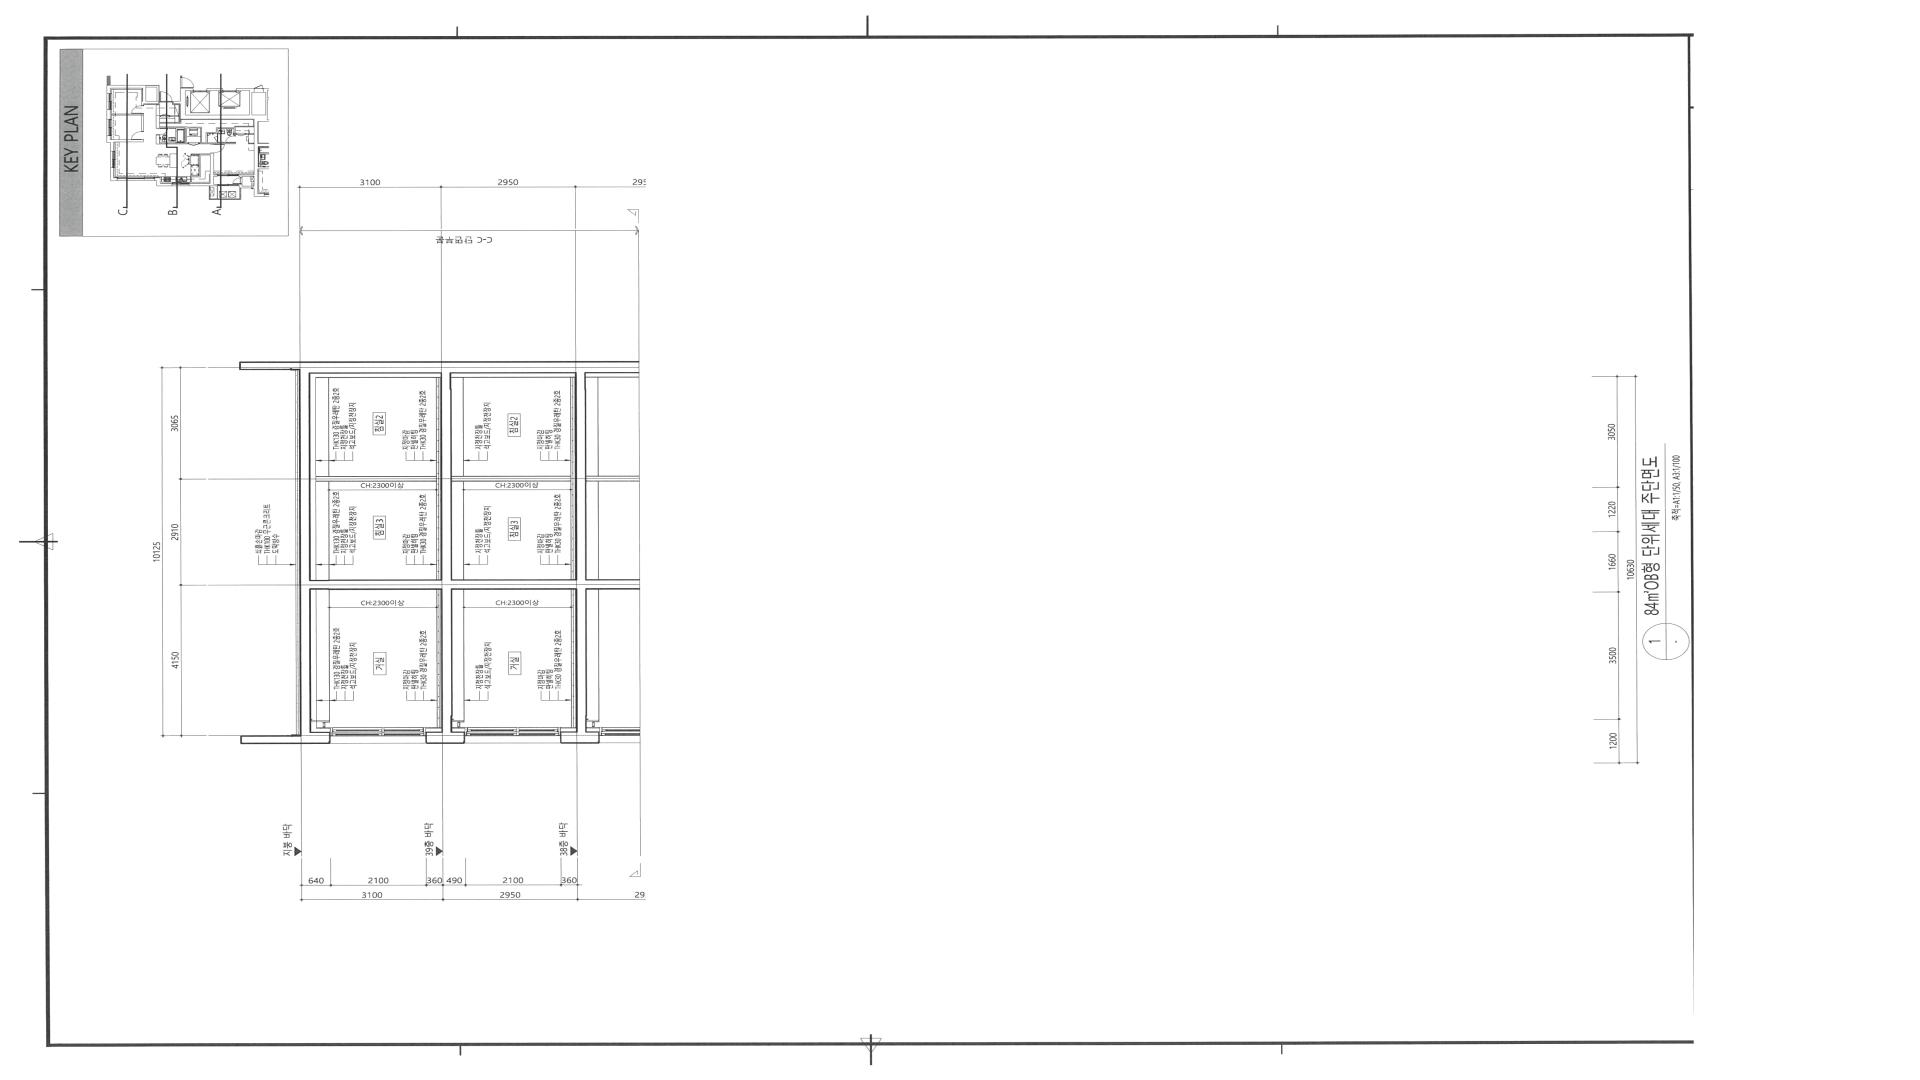wall: (310, 361, 464, 744), (451, 361, 587, 744), (239, 361, 330, 744), (310, 373, 442, 580), (310, 589, 330, 733), (451, 373, 575, 378), (315, 476, 436, 481), (451, 476, 571, 481), (560, 727, 578, 732), (426, 727, 443, 732), (452, 728, 464, 732)
window: (464, 727, 560, 744), (330, 728, 426, 744)
